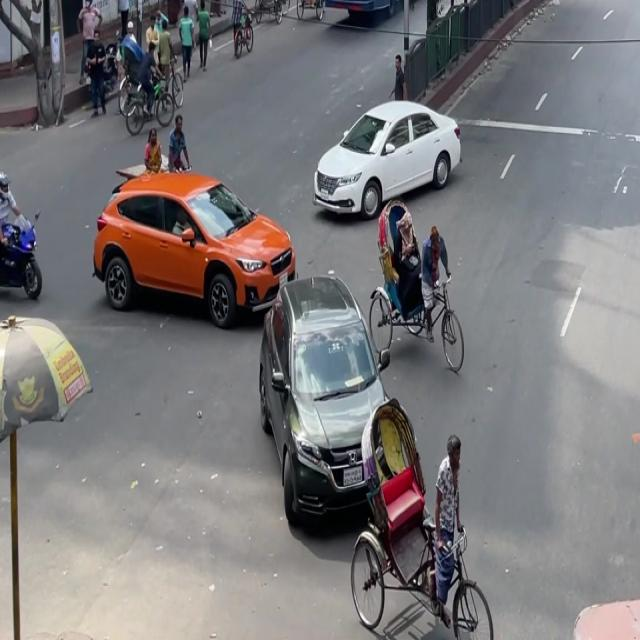car: (85, 154, 306, 345), (250, 259, 400, 540), (307, 74, 465, 227)
motorbike: (0, 168, 51, 324)
